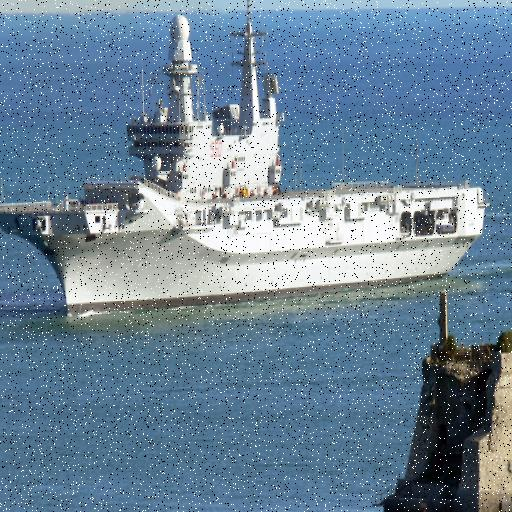Portanaves: (1, 1, 493, 333)
